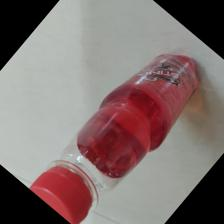Sting: (27, 53, 198, 224)
